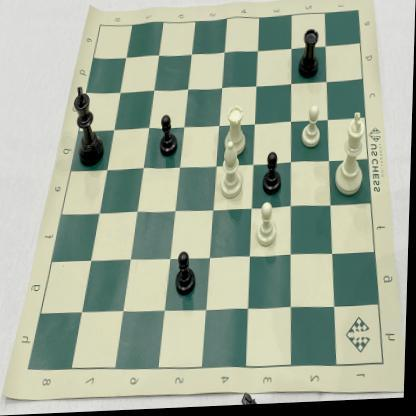black-king: (71, 83, 110, 169)
black-pawn: (174, 247, 200, 301), (158, 111, 181, 161), (262, 150, 285, 198)
black-rook: (296, 27, 322, 85)
white-bishop: (218, 140, 249, 204)
white-king: (332, 110, 370, 203)
white-pawn: (255, 199, 283, 253), (300, 104, 324, 153)
white-rook: (223, 103, 251, 162)
